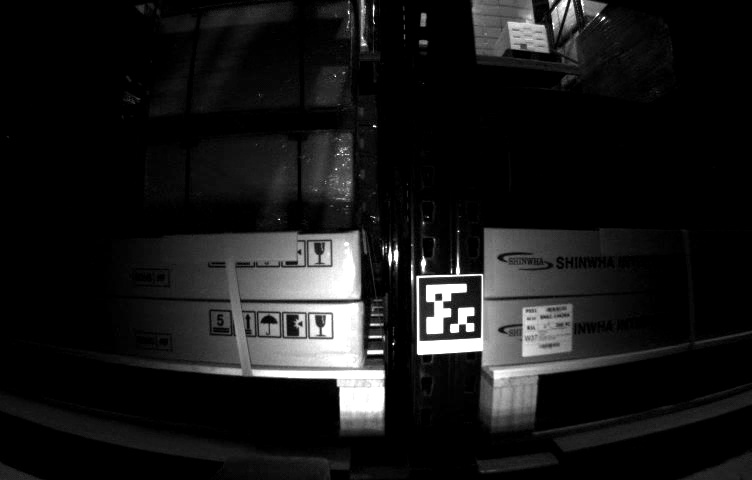True Barcode: (523, 303, 574, 355)
